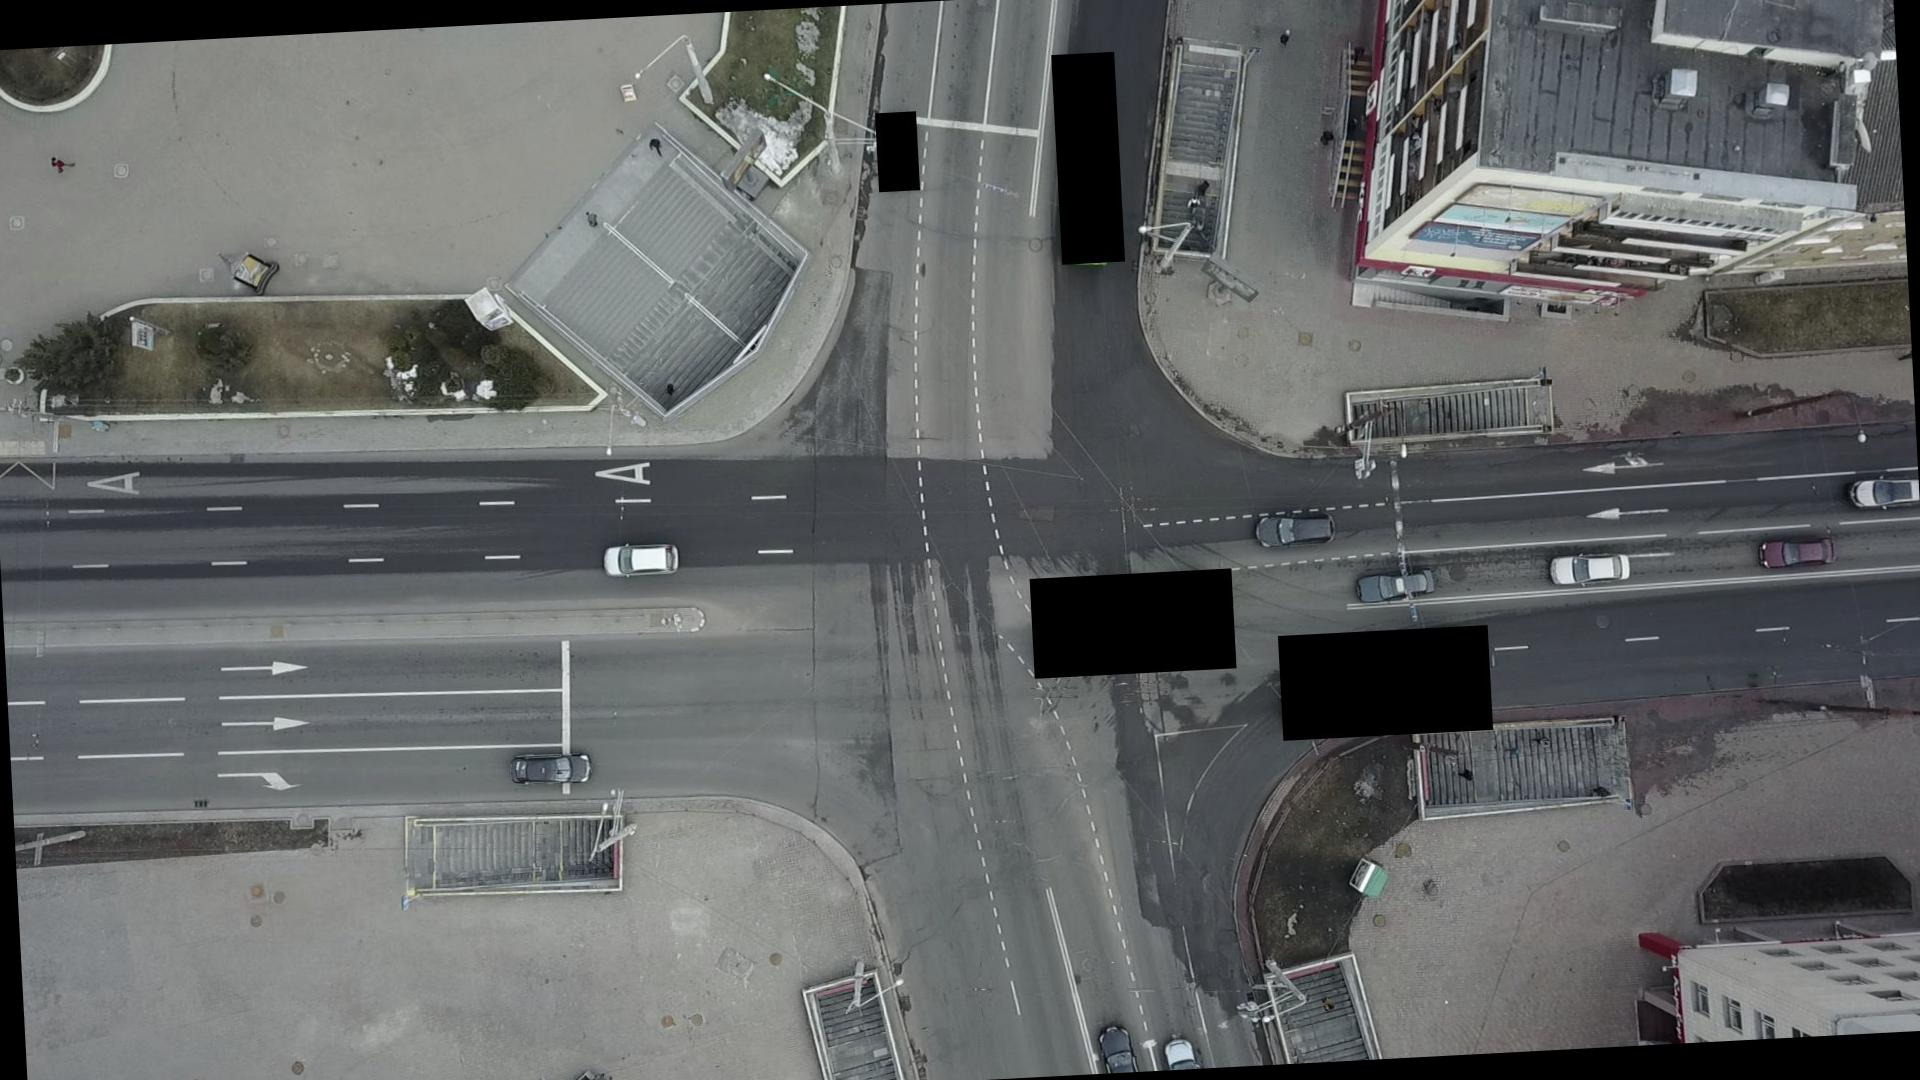vehicle: (1249, 510, 1337, 550), (510, 748, 594, 788), (1547, 548, 1630, 586), (1351, 568, 1438, 604), (1844, 470, 1918, 512), (601, 540, 680, 579), (1756, 534, 1838, 569)
